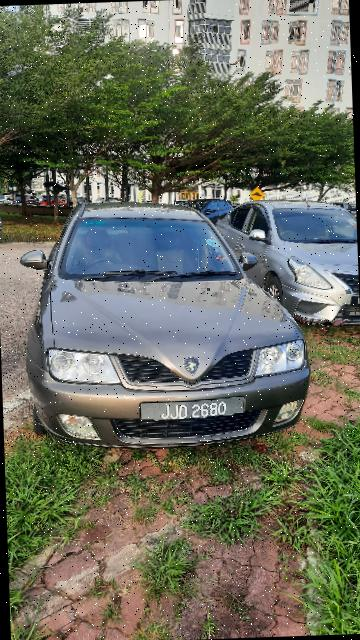License_Plate: (138, 394, 249, 427)
car: (15, 195, 307, 462), (214, 188, 360, 331)
